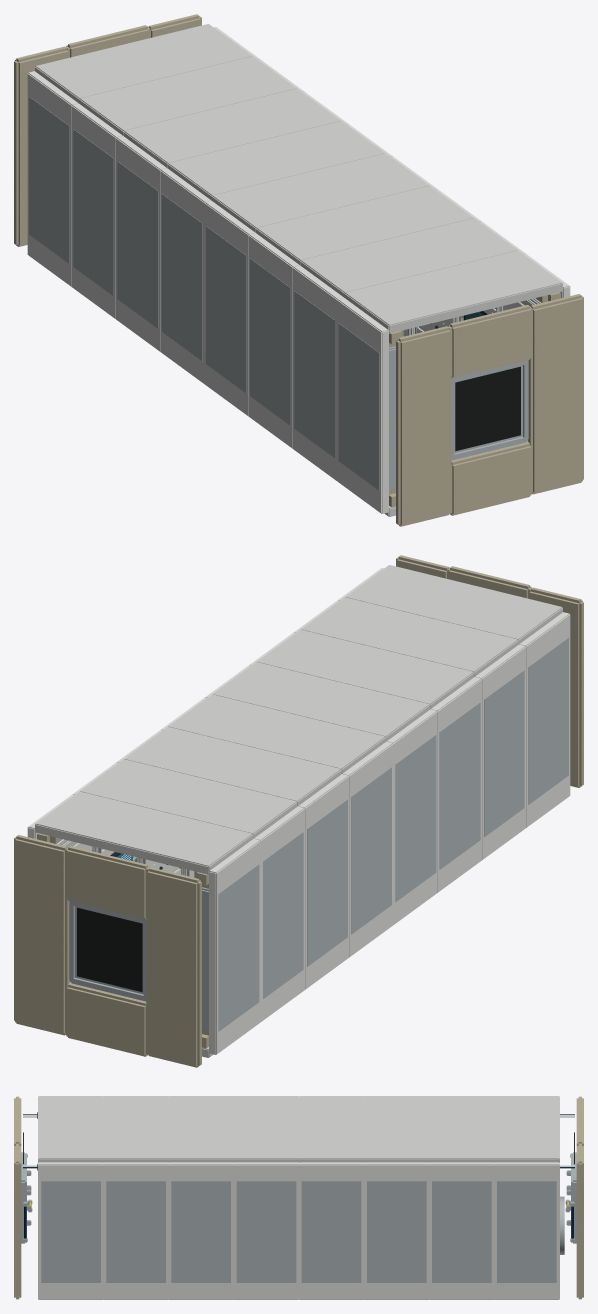
The model's file is kibo_optimized.glb.
The picture shows the model from 3 angles, top to bottom: view 1: azimuth 30°, elevation 25°; view 2: azimuth 150°, elevation 25°; view 3: azimuth 270°, elevation 25°; orthographic projection. The views are drawn at different scales.
Visible parts, largest first — view 1: kibo_interior; view 2: kibo_interior; view 3: kibo_interior.
Part boxes in pixels (left/top/right/bottom): kibo_interior: left=14, top=14, right=583, bottom=526; kibo_interior: left=14, top=555, right=583, bottom=1067; kibo_interior: left=14, top=1096, right=583, bottom=1299.
Bounding box in the file's own units: 3.1 × 3 × 10.94.
Materials: 15 (3 with a texture image).
